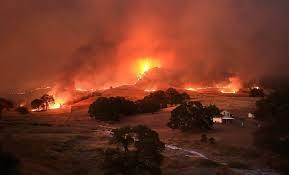fire: (129, 54, 161, 79), (41, 92, 66, 110), (219, 76, 241, 93)
